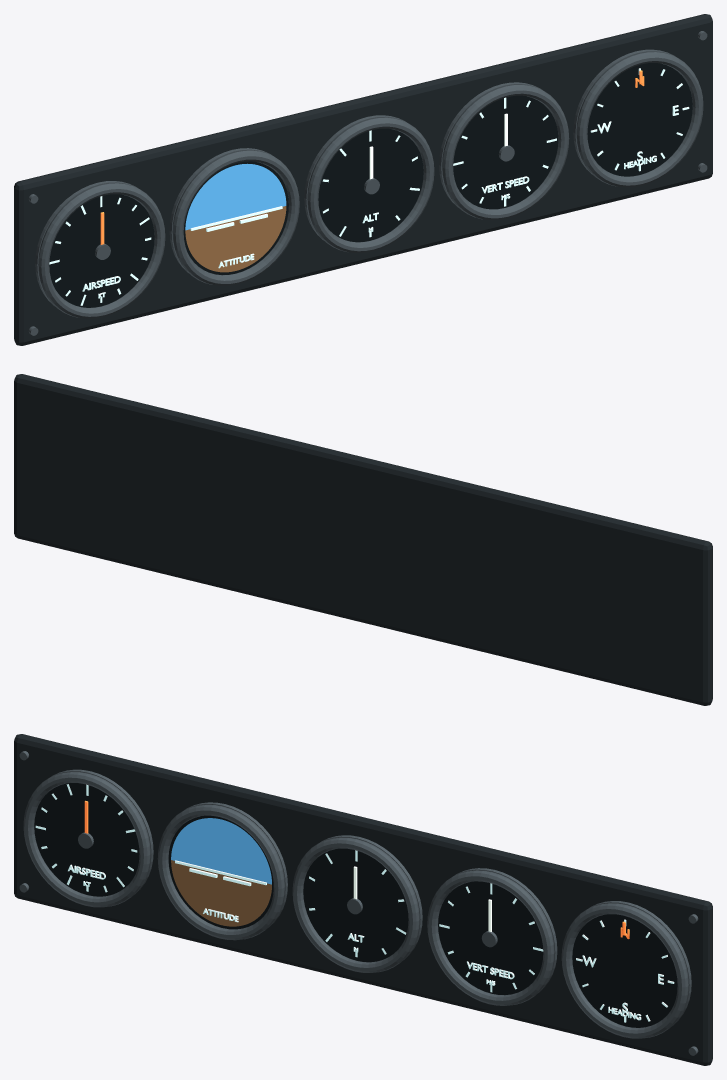
The model's file is primary_instrument_pack.glb.
3 views of the same model, one above another, from view 1: azimuth 30°, elevation 25°; view 2: azimuth 150°, elevation 25°; view 3: azimuth 330°, elevation 25° (orthographic).
Visible parts, largest first — view 1: Instrument_Backplate, Heading_Face, Altimeter_Face, VSI_Face, Airspeed_Face, Airspeed_Bezel, Heading_Bezel, Attitude_Bezel, VSI_Bezel, Altimeter_Bezel, Attitude_Sky, Attitude_Earth (+6 smaller); view 2: Instrument_Backplate; view 3: Instrument_Backplate, Heading_Face, Altimeter_Face, VSI_Face, Airspeed_Face, Heading_Bezel, Airspeed_Bezel, VSI_Bezel, Attitude_Bezel, Altimeter_Bezel, Attitude_Sky, Attitude_Earth (+6 smaller).
Part boxes in pixels (x1,y1,x2,y2): Instrument_Backplate: (14, 14, 712, 345); Heading_Face: (587, 63, 692, 176); Altimeter_Face: (318, 128, 423, 242); VSI_Face: (453, 95, 558, 209); Airspeed_Face: (49, 194, 154, 307); Airspeed_Bezel: (38, 183, 165, 318); Heading_Bezel: (576, 52, 703, 187); Attitude_Bezel: (172, 150, 299, 285); VSI_Bezel: (442, 84, 569, 220); Altimeter_Bezel: (307, 117, 434, 252); Attitude_Sky: (185, 163, 286, 230); Attitude_Earth: (185, 206, 286, 272); Instrument_Backplate: (14, 374, 712, 705); Instrument_Backplate: (14, 734, 712, 1065); Heading_Face: (572, 914, 677, 1027); Altimeter_Face: (303, 848, 408, 962); VSI_Face: (438, 881, 543, 995); Airspeed_Face: (34, 783, 139, 896); Heading_Bezel: (561, 903, 688, 1038); Airspeed_Bezel: (23, 772, 150, 907); VSI_Bezel: (427, 870, 554, 1005); Attitude_Bezel: (157, 804, 284, 940); Altimeter_Bezel: (292, 837, 419, 972); Attitude_Sky: (171, 818, 271, 884); Attitude_Earth: (171, 860, 271, 926).
Size of the model in its own units: 14.9 by 3.35 by 0.4999.
